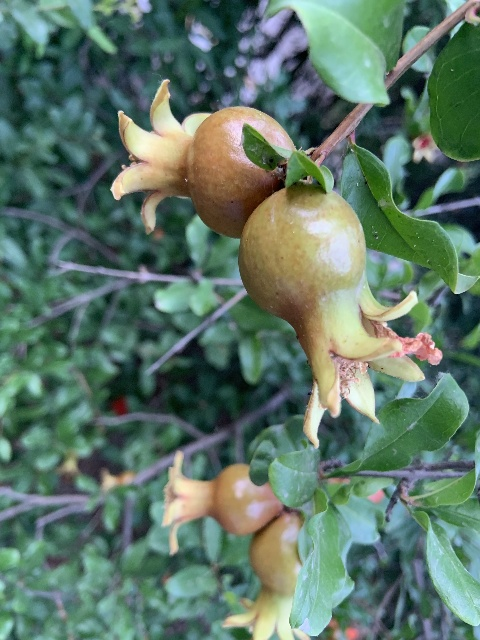early-fruit: (239, 184, 428, 449), (111, 79, 292, 239), (161, 451, 284, 554), (223, 512, 314, 640)
